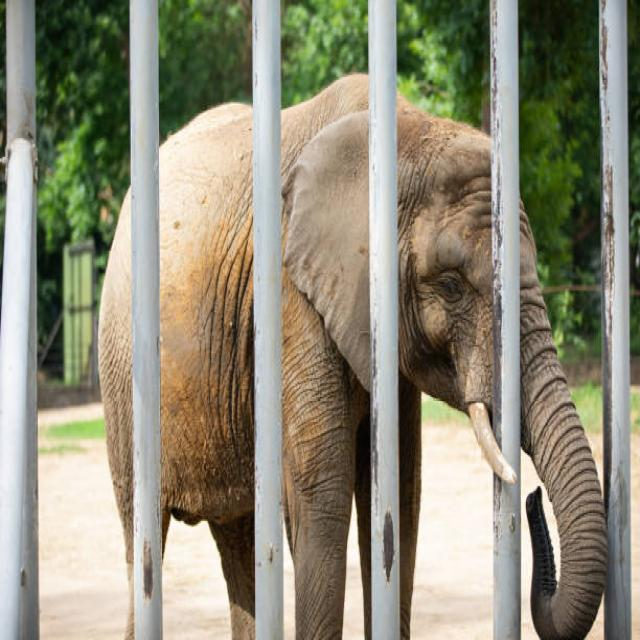Elephant: (100, 84, 605, 640)
